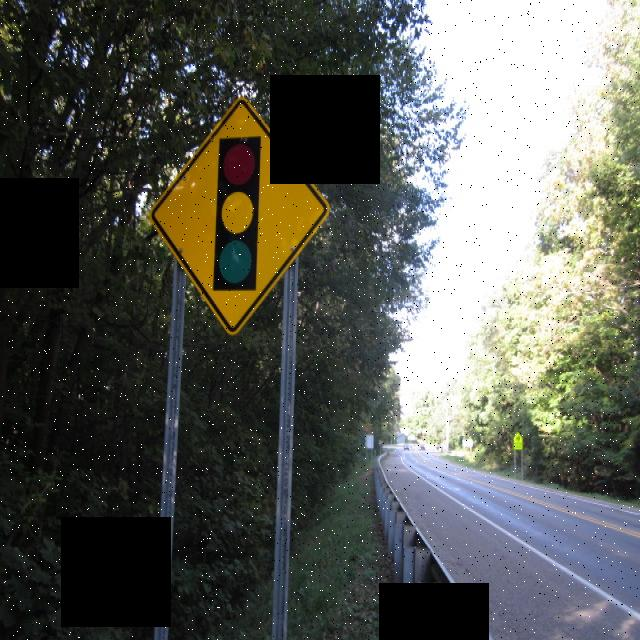warning: (142, 93, 330, 336)
